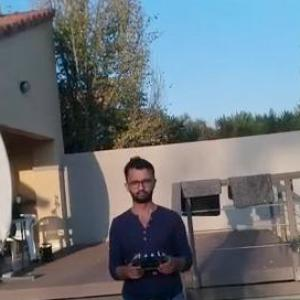follow: (102, 145, 199, 299)
